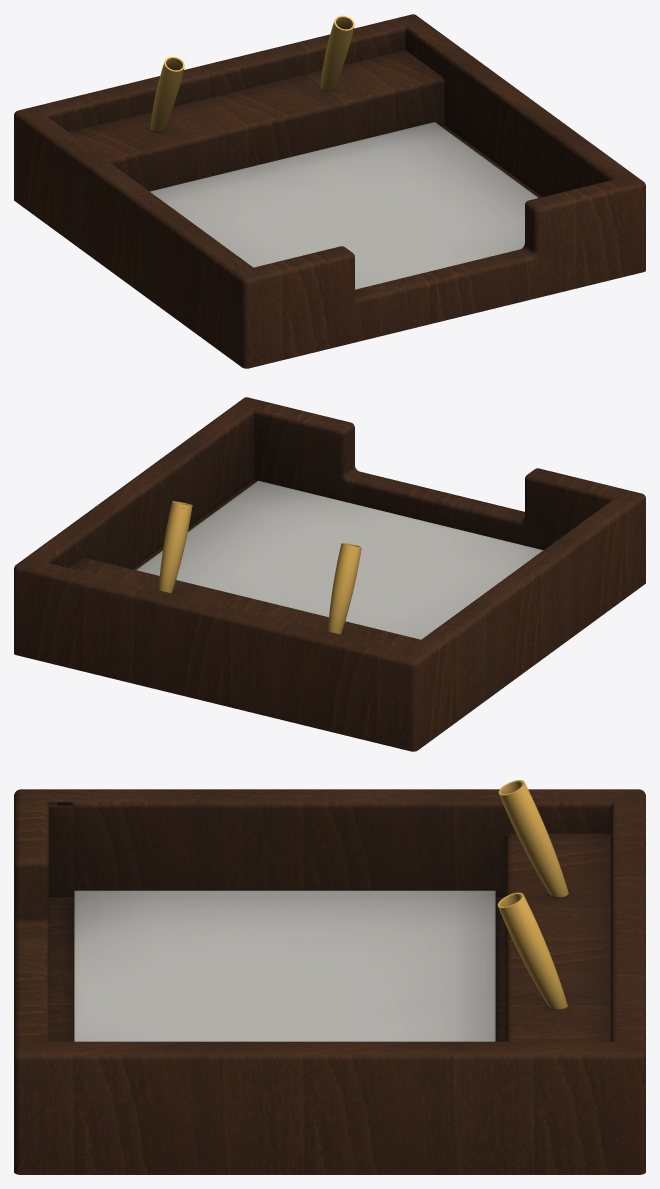
The model's file is zapis.obj.
3 renders of one model, top to bottom at view 1: azimuth 30°, elevation 25°; view 2: azimuth 150°, elevation 25°; view 3: azimuth 270°, elevation 25°, orthographic. The views are drawn at different scales.
Parts seen in each view (by area): view 1: osnova, paper, ruch_1, ruch_2; view 2: osnova, paper, ruch_2, ruch_1; view 3: osnova, paper, ruch_1, ruch_2.
Boxes of the visible parts, box(x1,y1,x2,y2) form: osnova: box(14, 14, 645, 368); paper: box(150, 122, 538, 289); ruch_1: box(150, 56, 184, 132); ruch_2: box(320, 15, 354, 91); osnova: box(14, 397, 645, 751); paper: box(136, 480, 543, 639); ruch_2: box(158, 501, 192, 593); ruch_1: box(327, 543, 361, 634); osnova: box(14, 789, 645, 1174); paper: box(74, 890, 495, 1041); ruch_1: box(498, 780, 568, 897); ruch_2: box(497, 892, 567, 1009).
Bounding box in the file's own units: 0.18 × 0.0628 × 0.18.
1 material, 1 textured.
